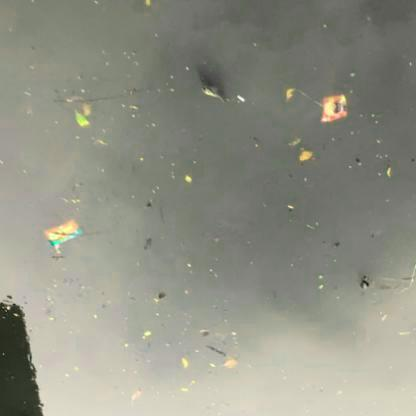Trash: (41, 217, 86, 250), (320, 92, 349, 126)
